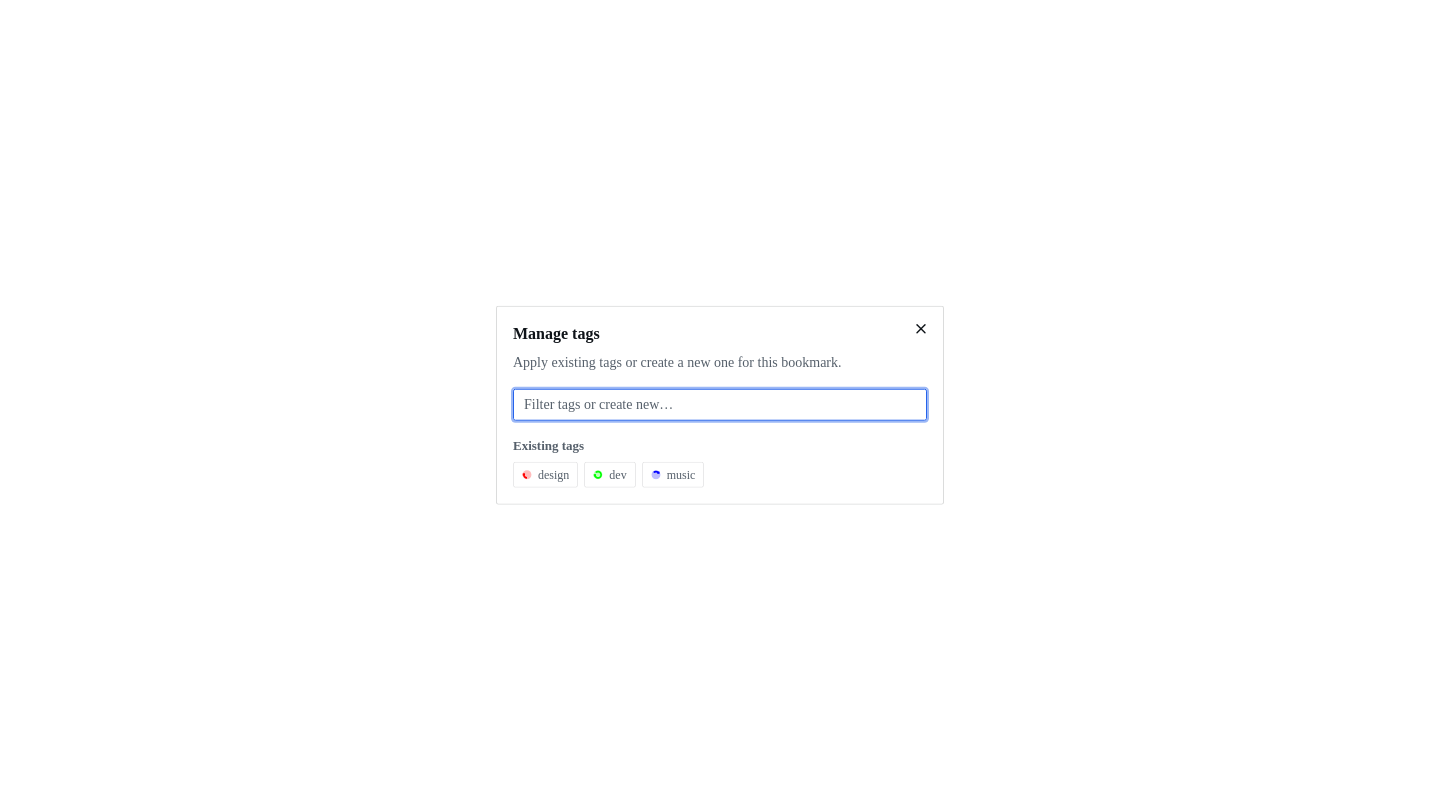
Test: AddTagDialog › keeps sibling chips enabled while one tag is pending
The image size is (1440, 810).
What coordinates should you click on to do the following:
click the button "design"
I would click on:
 (546, 474)
Its box is [513,461,578,487].
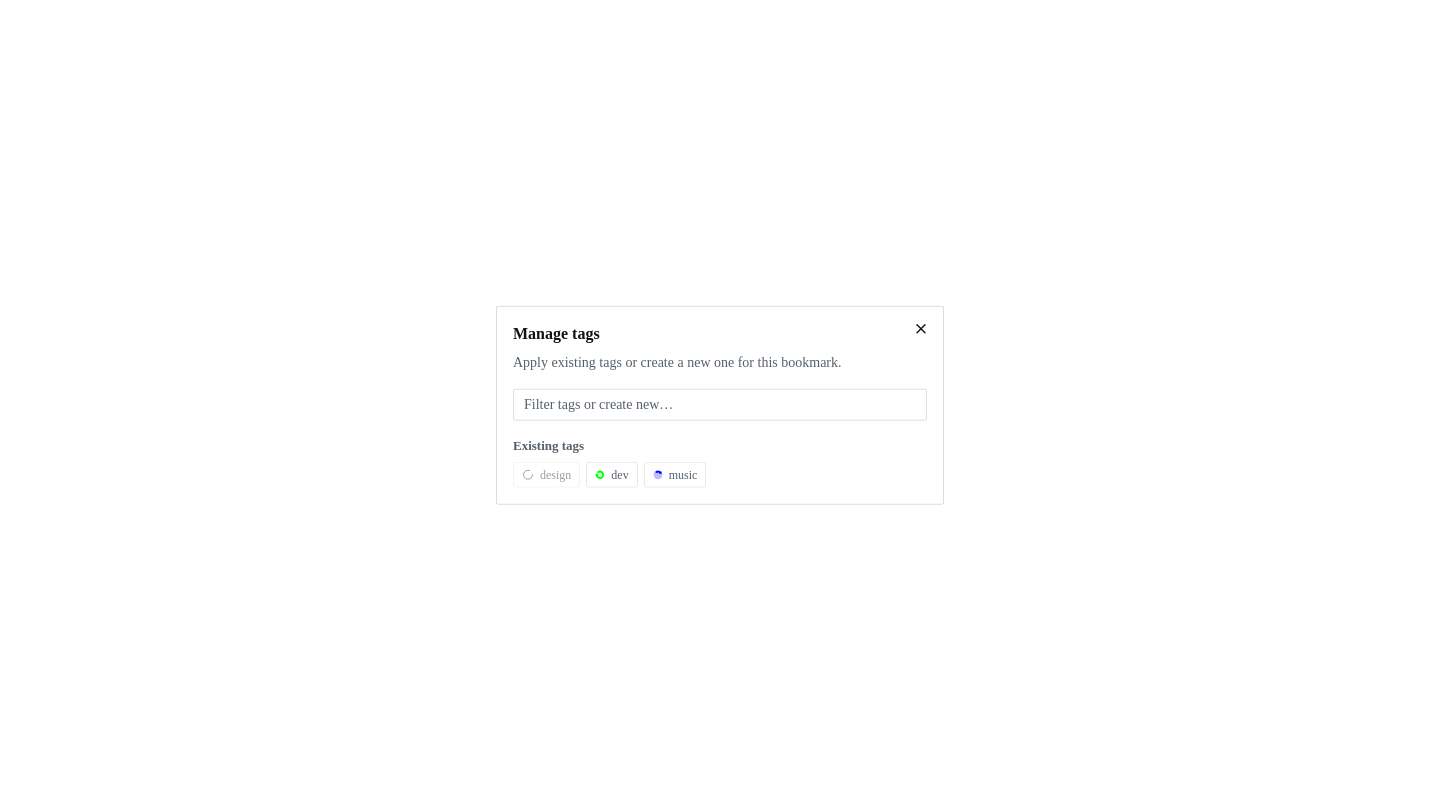
Check: the button "dev" is enabled, box [586,461,638,487]
Check: the button "design" is disabled, box [513,461,580,487]
